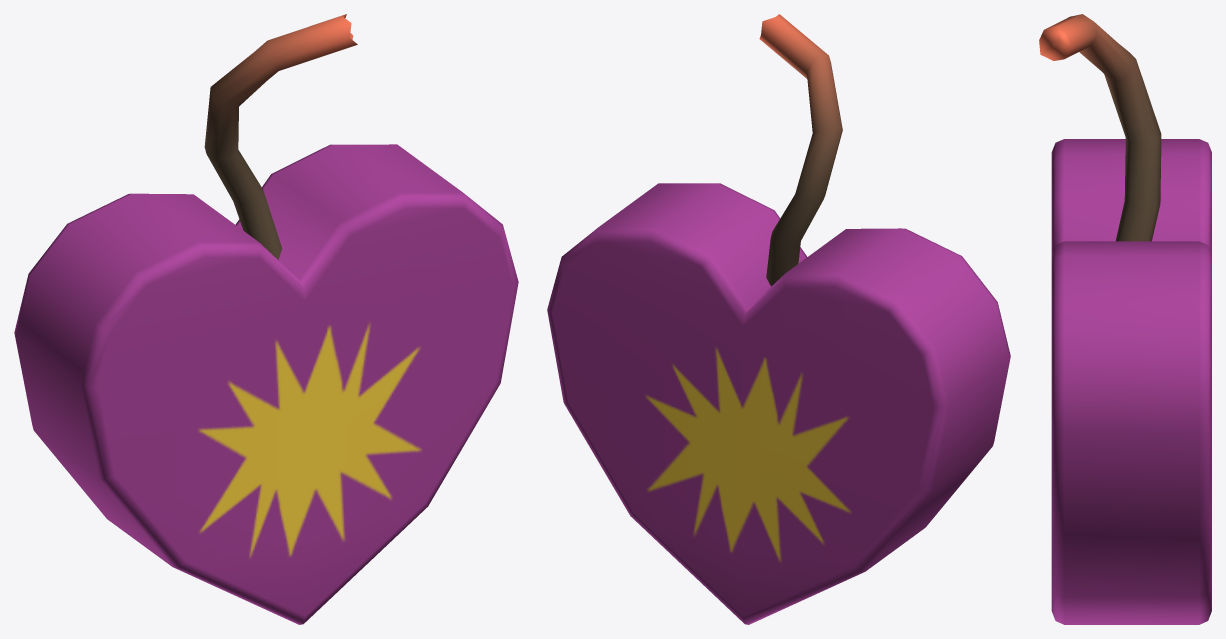
Rendered from bomb.fbx.
3 renders of one model, left to right at view 1: azimuth 30°, elevation 25°; view 2: azimuth 150°, elevation 25°; view 3: azimuth 270°, elevation 25°, orthographic. The views are drawn at different scales.
Visible parts, largest first — view 1: bomb; view 2: bomb; view 3: bomb.
Boxes of the visible parts, x1,y1,x2,y2 form: bomb: (14,14,518,624); bomb: (547,14,1010,624); bomb: (1039,14,1211,624).
Bounding box in the file's own units: 3.73 × 4.91 × 1.24.
Materials: 1 (1 with a texture image).
